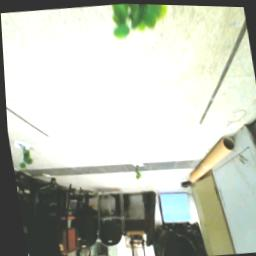herb: (14, 144, 32, 171), (133, 165, 140, 181)
